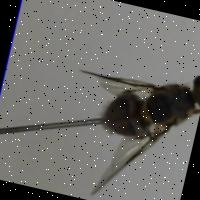Oriental-fruit-fly: (56, 35, 200, 200)
